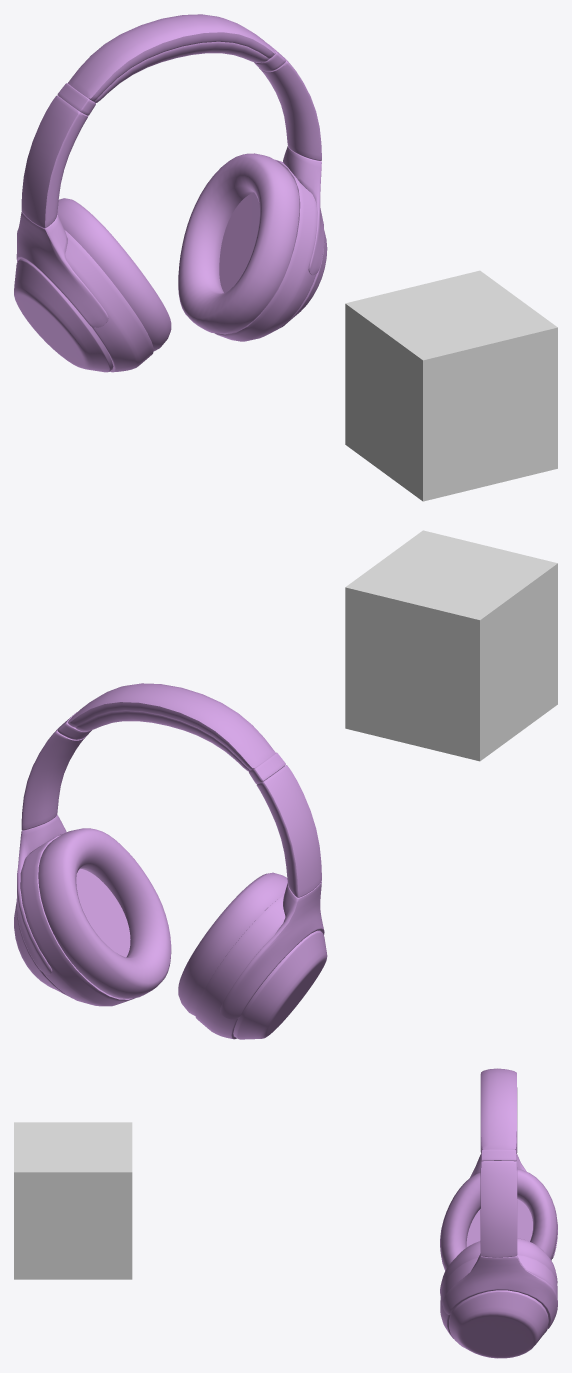
Rendered from ThreejsScene (6).glb.
3 views of the same model, one above another, from view 1: azimuth 30°, elevation 25°; view 2: azimuth 150°, elevation 25°; view 3: azimuth 270°, elevation 25° (orthographic). The views are drawn at different scales.
Parts seen in each view (by area): view 1: уховнешнее001, object 3; view 2: уховнешнее001, object 3; view 3: уховнешнее001, object 3.
Boxes of the visible parts, x1,y1,x2,y2 form: уховнешнее001: (14,14,327,372); object 3: (345,270,557,501); уховнешнее001: (14,683,327,1039); object 3: (345,530,557,761); уховнешнее001: (440,1068,557,1358); object 3: (14,1122,132,1279).
Size of the model in its own units: 4.3 by 4.62 by 9.18.
